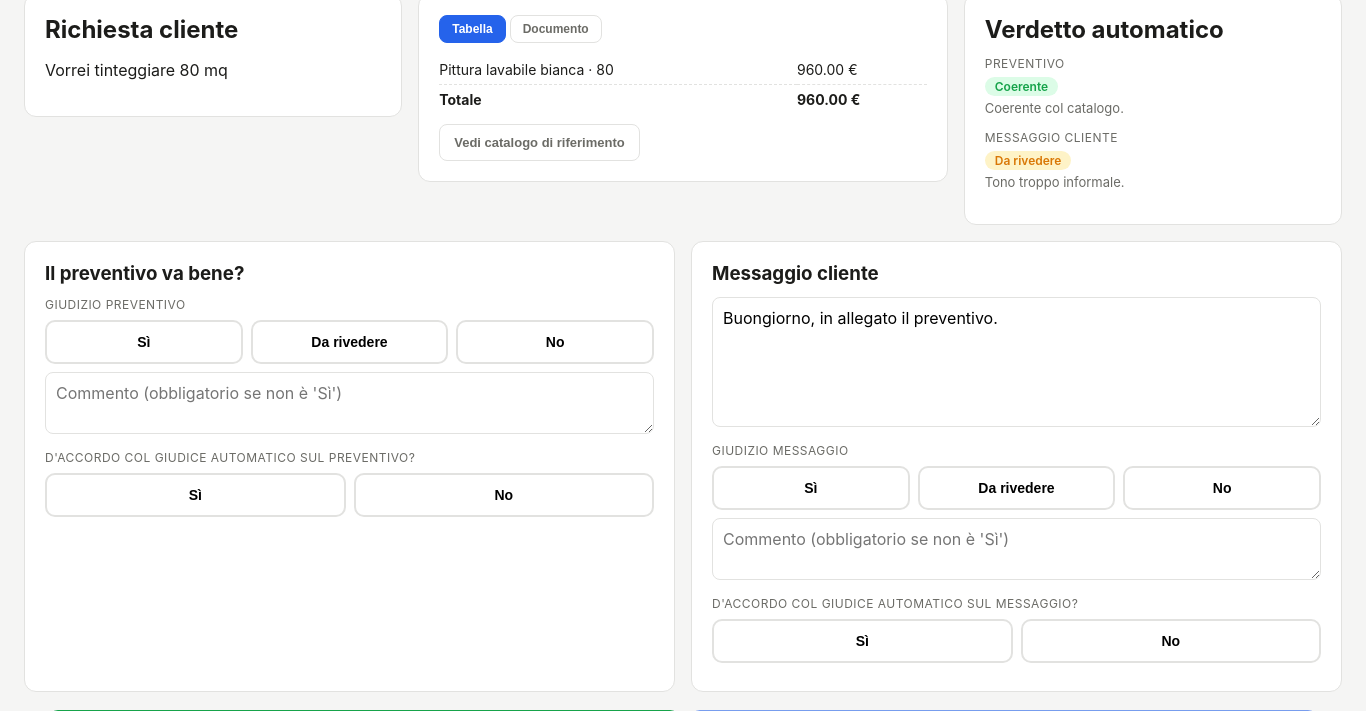
Scenario: area di lavoro del giudice umano › se la registrazione fallisce, mostra il messaggio d'errore specifico invece di uno generico
Click the 1st button "Sì".
click(144, 342)  # box top-left (45, 320), bottom-right (243, 364)
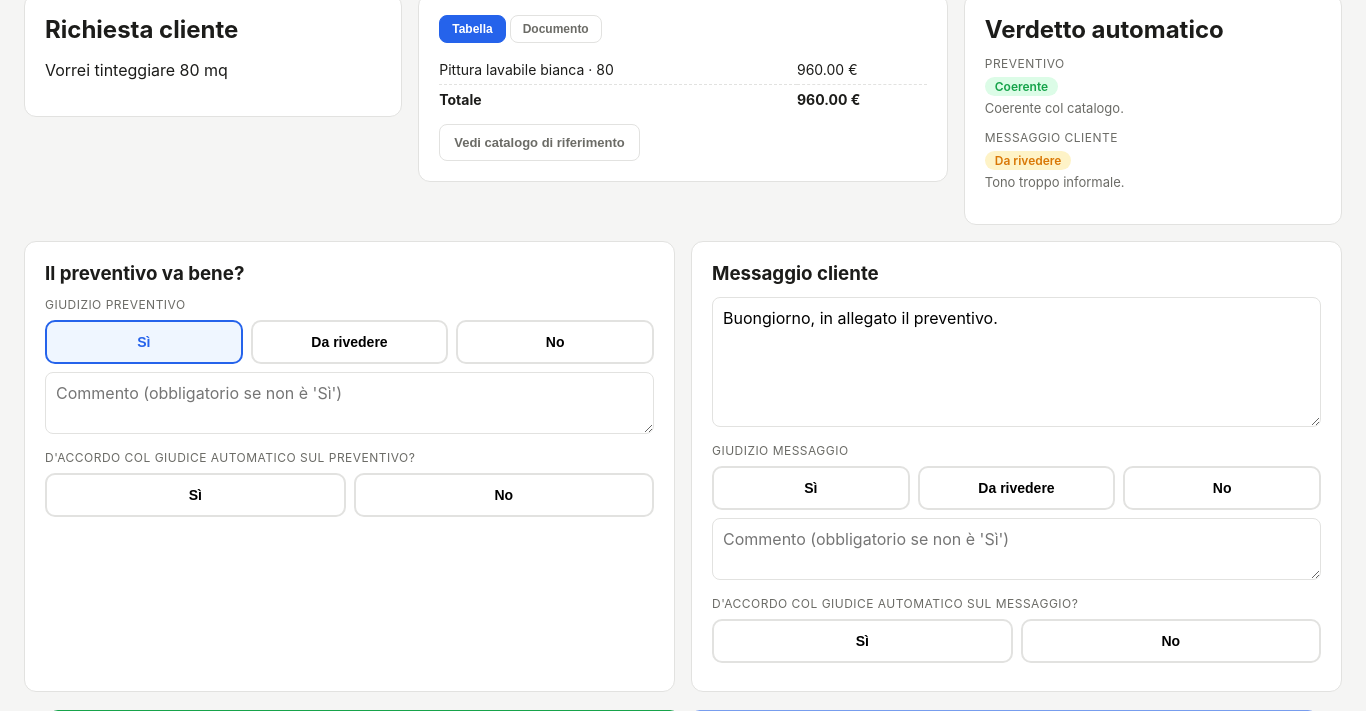
Click the 2nd button "Sì".
click(195, 495)  # box top-left (45, 473), bottom-right (346, 517)
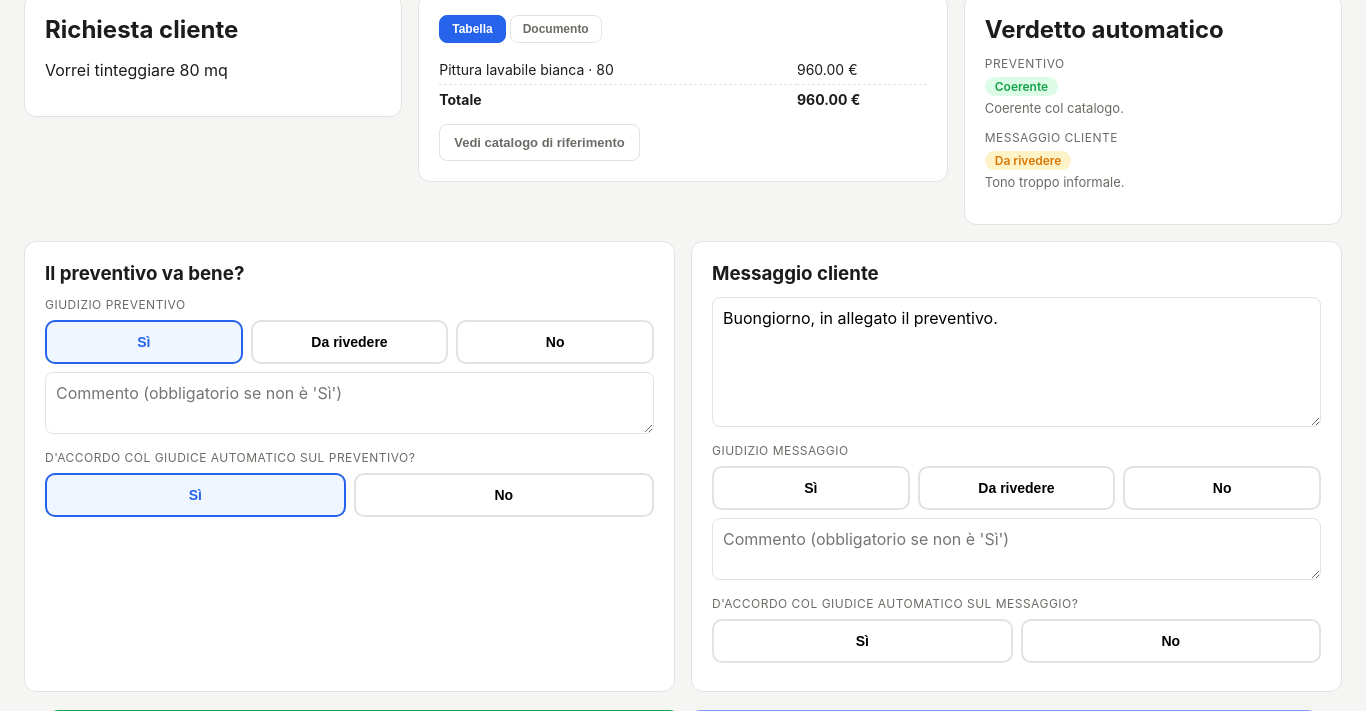
Click the 3rd button "Sì".
click(811, 488)  # box top-left (712, 466), bottom-right (910, 510)
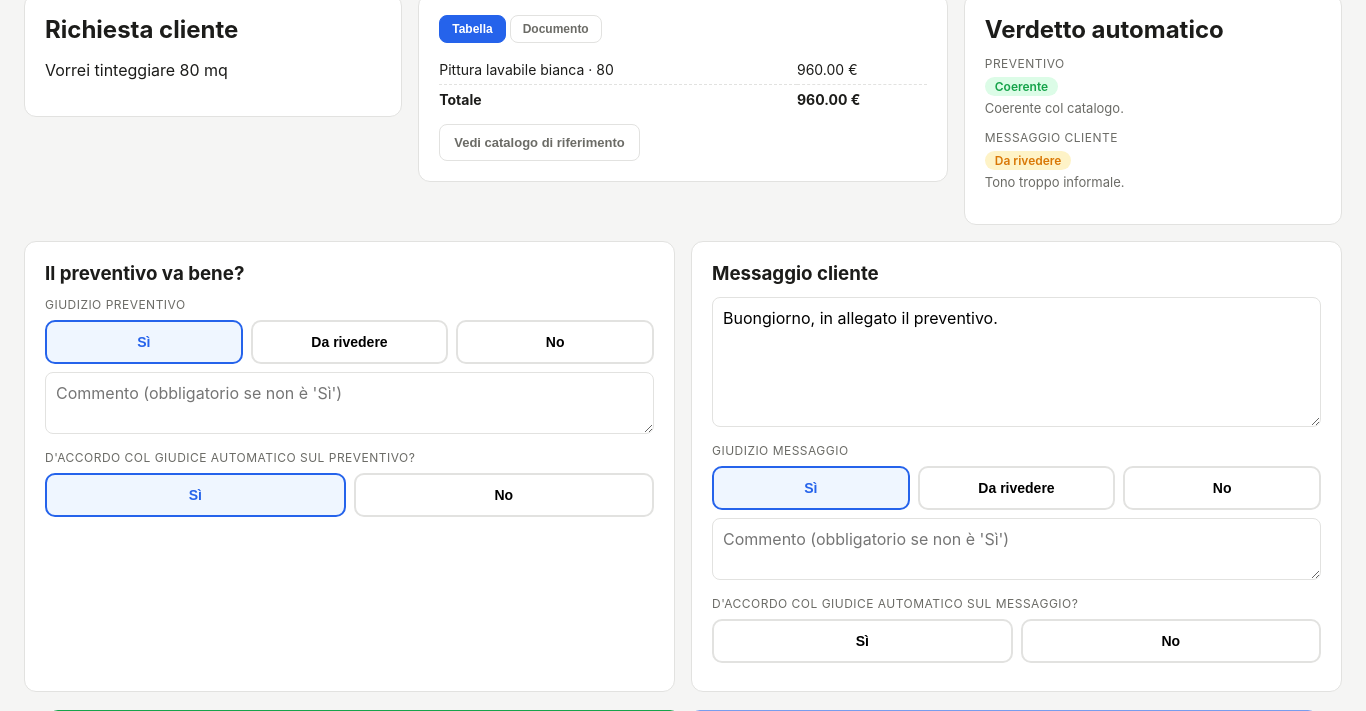
Click the 4th button "Sì".
click(862, 641)  # box top-left (712, 619), bottom-right (1012, 663)
(page scrolled)
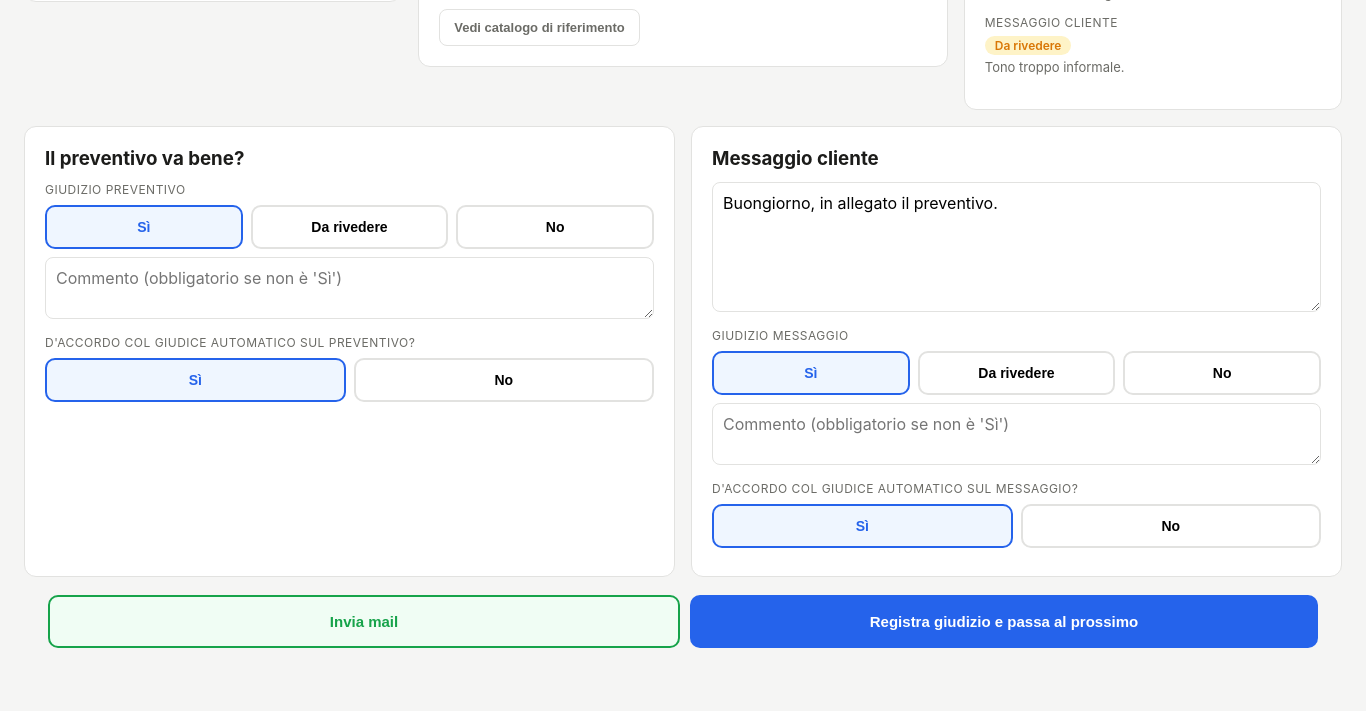
Click the button "Registra giudizio e passa al prossimo".
click(1004, 622)  # box top-left (690, 595), bottom-right (1318, 648)
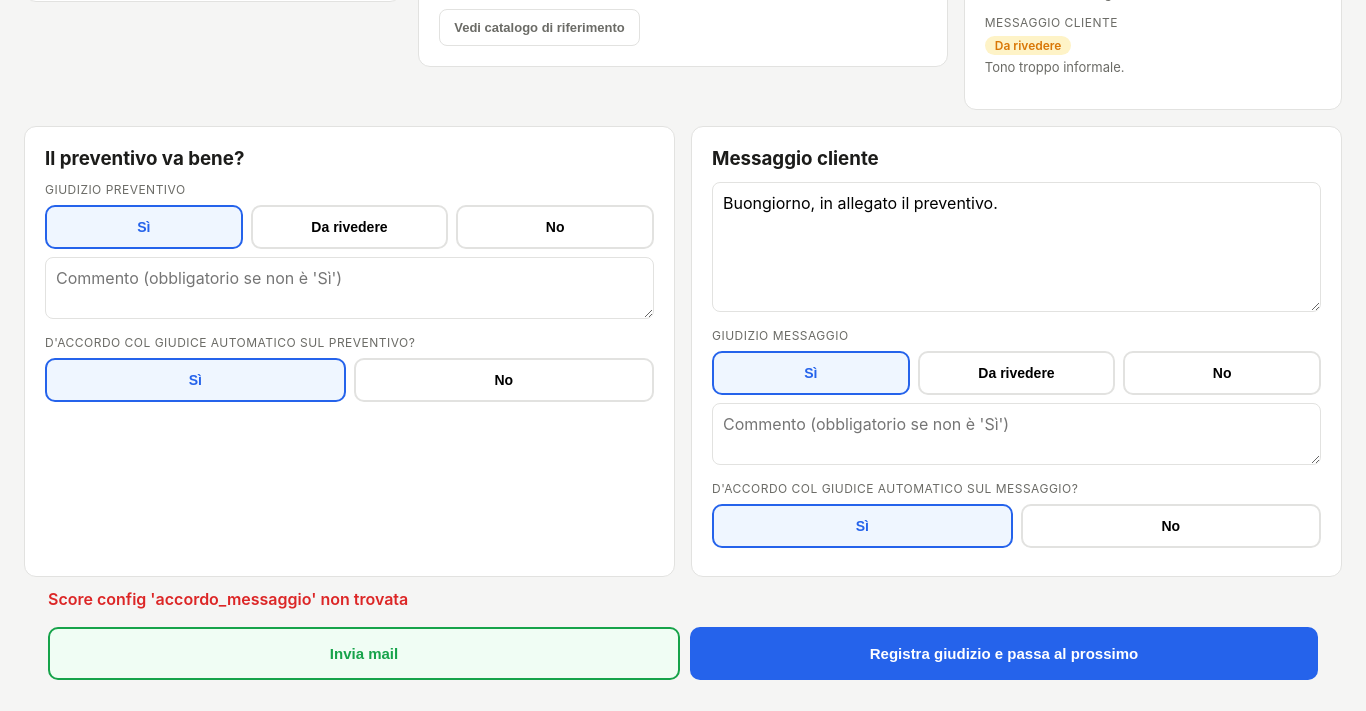
Now the text "Score config 'accordo_messaggio' non trovata" is shown, box top-left (48, 589), bottom-right (408, 609)
